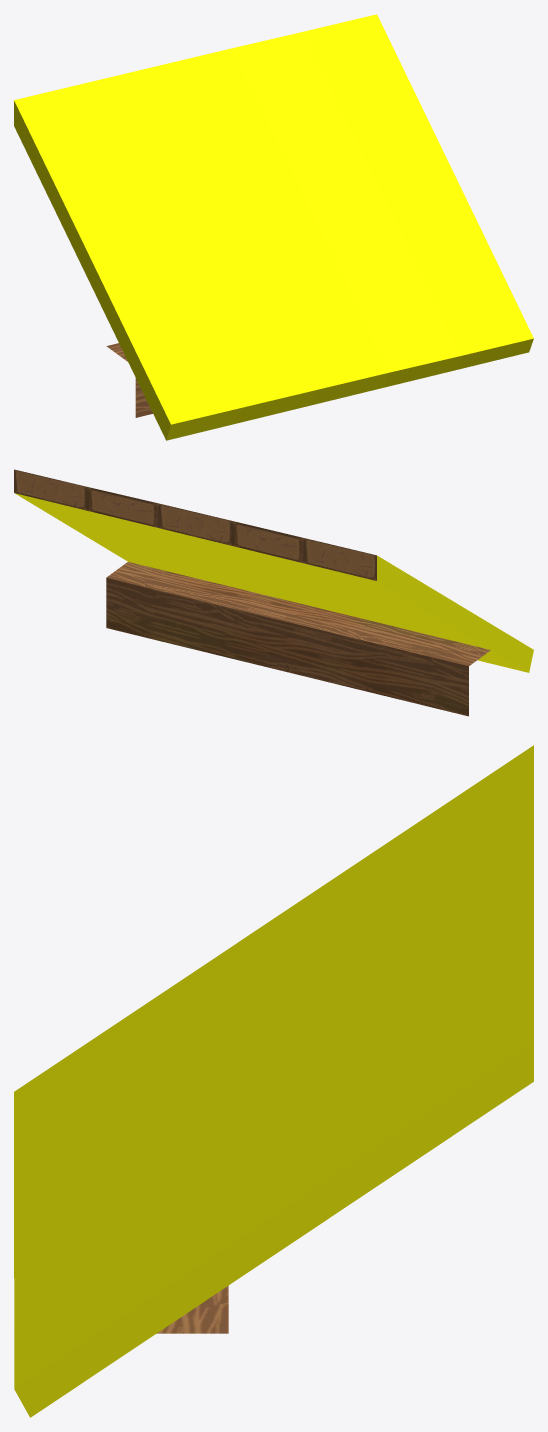
File: roof-wooden-2x1-center.glb
3 views of the same model, one above another, from view 1: azimuth 30°, elevation 25°; view 2: azimuth 150°, elevation 25°; view 3: azimuth 270°, elevation 25° (orthographic). The views are drawn at different scales.
Visible parts, largest first — view 1: Roof_Wooden_2x1_Center; view 2: Roof_Wooden_2x1_Center; view 3: Roof_Wooden_2x1_Center.
Part boxes in pixels (x1,y1,x2,y2): Roof_Wooden_2x1_Center: [14, 14, 533, 440]; Roof_Wooden_2x1_Center: [14, 469, 533, 716]; Roof_Wooden_2x1_Center: [14, 745, 533, 1417].
Size of the model in its own units: 2 by 1.21 by 1.5.
2 materials, 1 textured.
